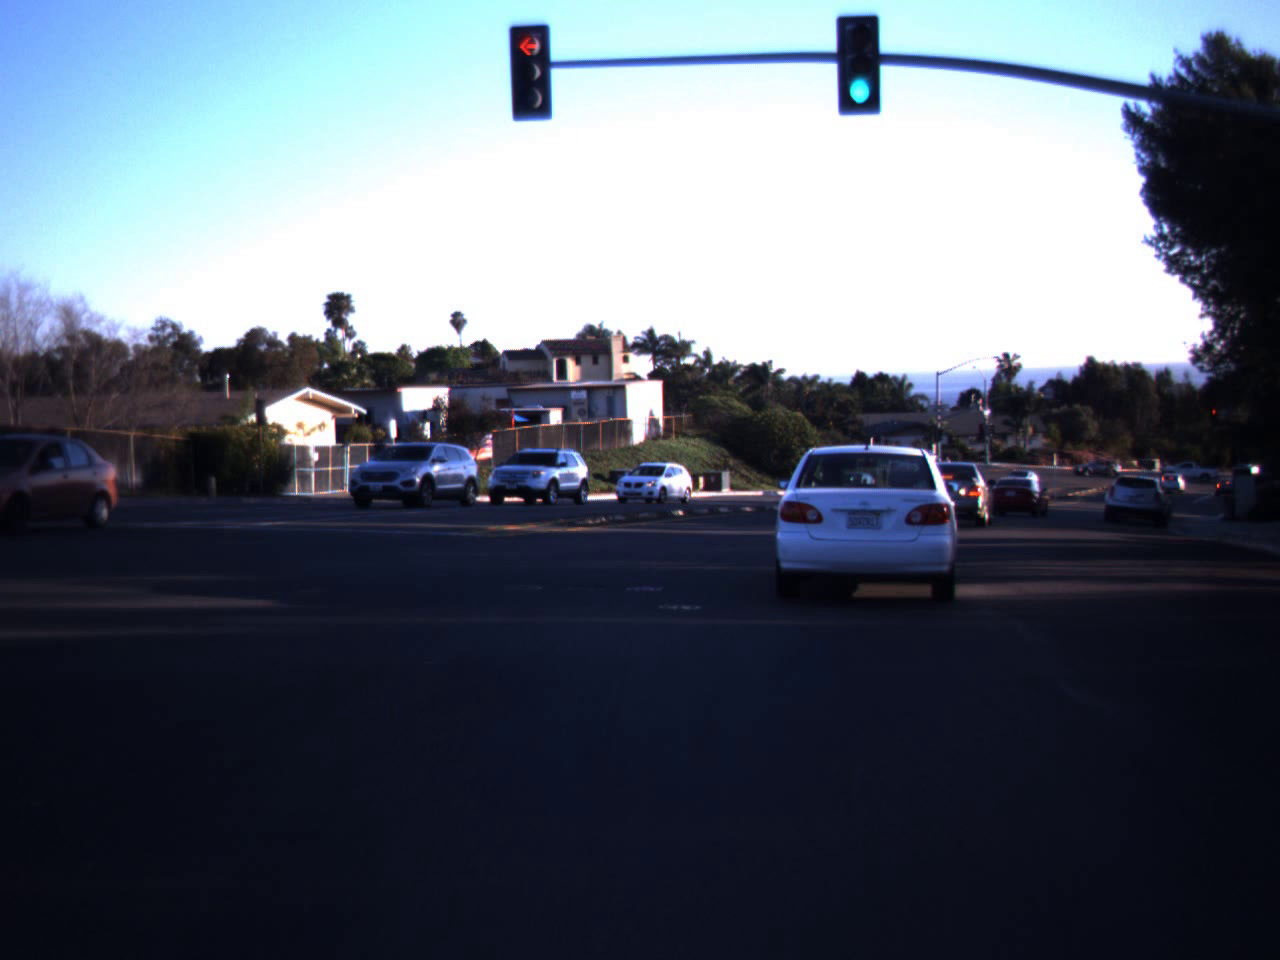go: (831, 3, 888, 113)
stop: (504, 29, 552, 105), (1208, 408, 1220, 426)
